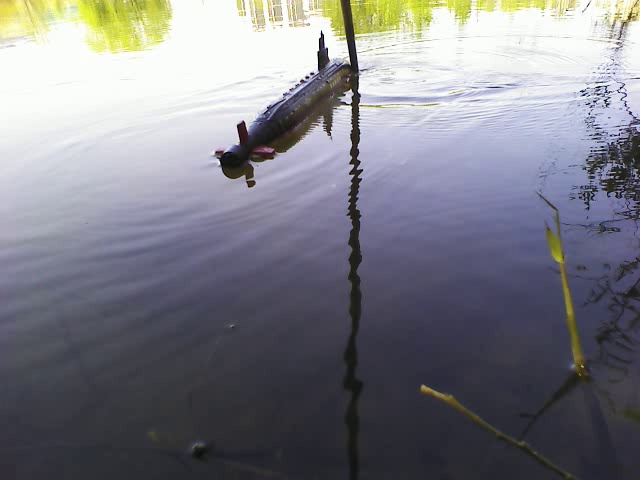submarine: (209, 31, 364, 166)
